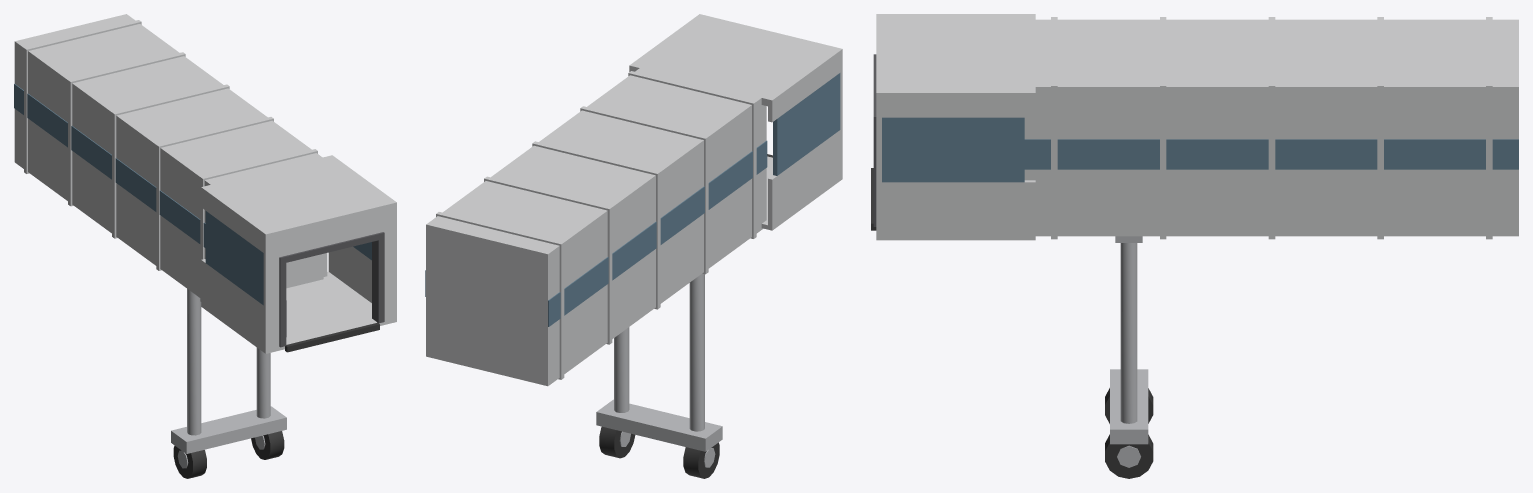
Rendered from JetBridge.glb.
The picture shows the model from 3 angles, left to right: view 1: azimuth 30°, elevation 25°; view 2: azimuth 150°, elevation 25°; view 3: azimuth 270°, elevation 25°; orthographic projection. The views are drawn at different scales.
Visible parts, largest first — view 1: Tunnel, Cab, ColumnLegs, Bogie, Canopy, TunnelC, Wheel_R, Wheel_L; view 2: Tunnel, Cab, ColumnLegs, Bogie, Wheel_R, Wheel_L; view 3: Tunnel, Cab, ColumnLegs, Bogie, Wheel_L, Canopy.
Part boxes in pixels (x1,y1,x2,y2): Tunnel: [14, 14, 327, 301]; Cab: [201, 155, 396, 353]; ColumnLegs: [187, 289, 270, 435]; Bogie: [171, 406, 286, 453]; Canopy: [279, 232, 384, 347]; TunnelC: [286, 254, 323, 288]; Wheel_R: [173, 445, 206, 478]; Wheel_L: [251, 431, 284, 459]; Tunnel: [425, 64, 767, 386]; Cab: [629, 14, 842, 230]; ColumnLegs: [614, 273, 704, 431]; Bogie: [596, 399, 722, 451]; Wheel_R: [683, 442, 719, 478]; Wheel_L: [599, 426, 635, 458]; Tunnel: [1024, 17, 1518, 239]; Cab: [871, 14, 1035, 240]; ColumnLegs: [1120, 243, 1137, 423]; Bogie: [1110, 369, 1148, 444]; Wheel_L: [1105, 434, 1153, 478]; Canopy: [873, 54, 876, 226].
Size of the model in its own units: 3.4 by 8.04 by 11.8.
